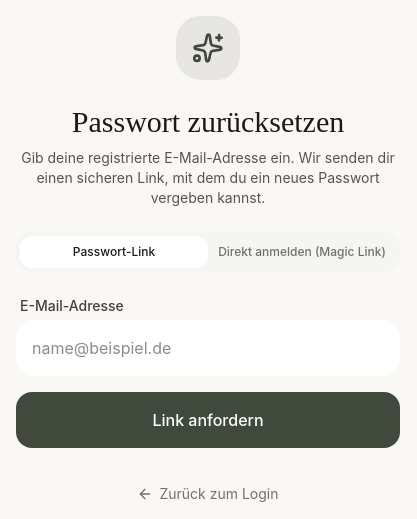
Scenario: ForgotPasswordForm › displays neutral feedback screen on successful reset request and starts cooldown
Type "user@klar.app" into the field labelled "E-Mail-Adresse" at x=208, y=348, box [16,320,400,376]
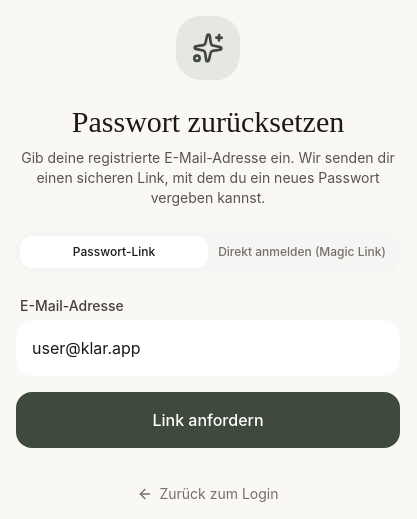
Click the button "Link anfordern" at x=208, y=420, box [16,392,400,448]
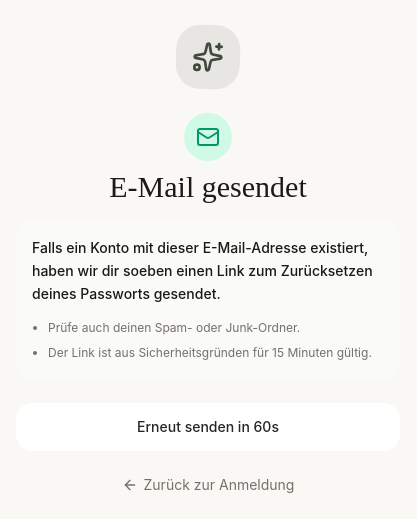
Expected: the heading "E-Mail gesendet" is shown, [109,170,307,203]
Expected: the text "Falls ein Konto mit dieser E-Mail-Adresse existiert" is shown, [32,239,373,302]
Expected: the list item "Prüfe auch deinen Spam- oder Junk-Ordner." is shown, [48,320,300,335]
